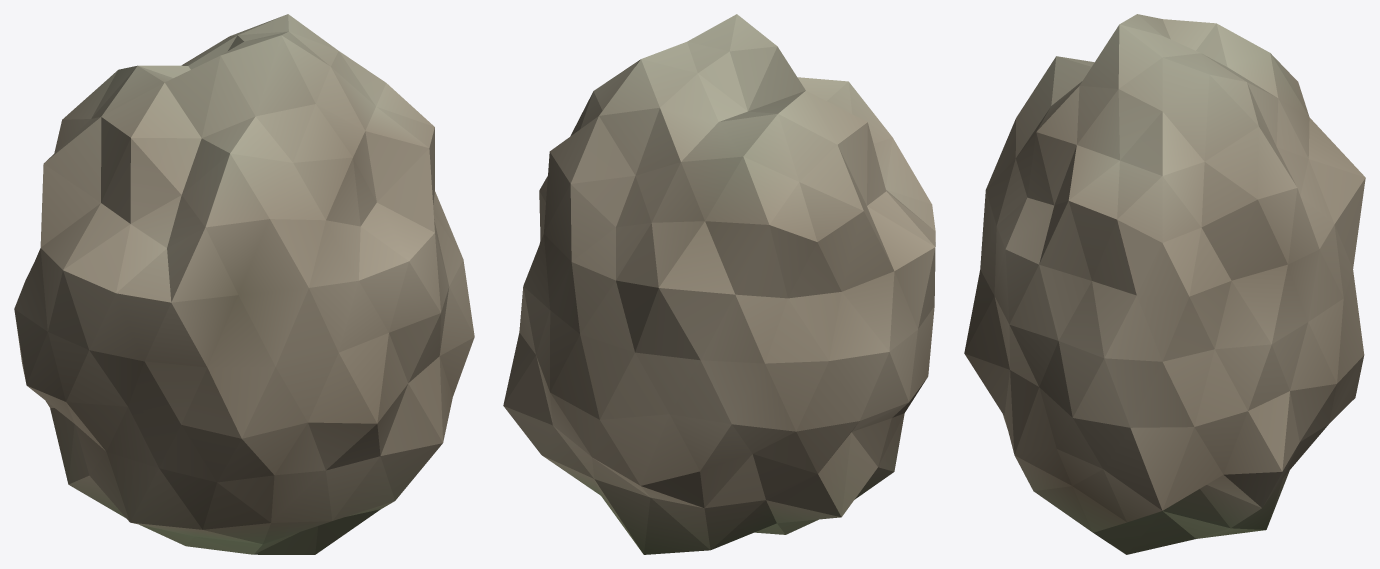
File: prop_rock_boulder_large_01.glb
3 views of the same model, side by side, from view 1: azimuth 30°, elevation 25°; view 2: azimuth 150°, elevation 25°; view 3: azimuth 270°, elevation 25° (orthographic). The views are drawn at different scales.
Parts seen in each view (by area): view 1: prop_rock_boulder_large_01; view 2: prop_rock_boulder_large_01; view 3: prop_rock_boulder_large_01.
Boxes of the visible parts, <box> form: prop_rock_boulder_large_01: <box>14,14,474,554</box>; prop_rock_boulder_large_01: <box>503,14,935,554</box>; prop_rock_boulder_large_01: <box>964,14,1365,554</box>.
Bounding box in the file's own units: 1.3 × 1.61 × 1.14.
